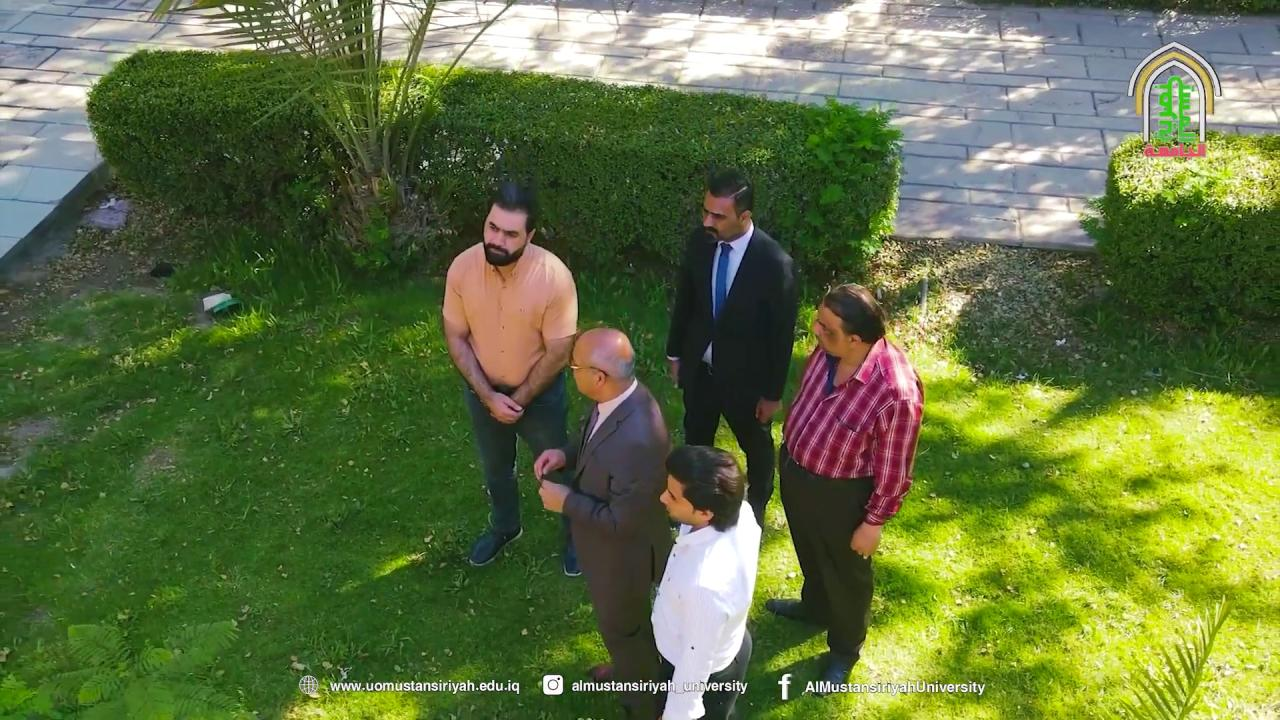person: (764, 282, 924, 694), (441, 180, 581, 577), (533, 325, 673, 719), (664, 166, 799, 536), (648, 444, 762, 719)
tree: (141, 0, 523, 265), (1115, 594, 1234, 719)
